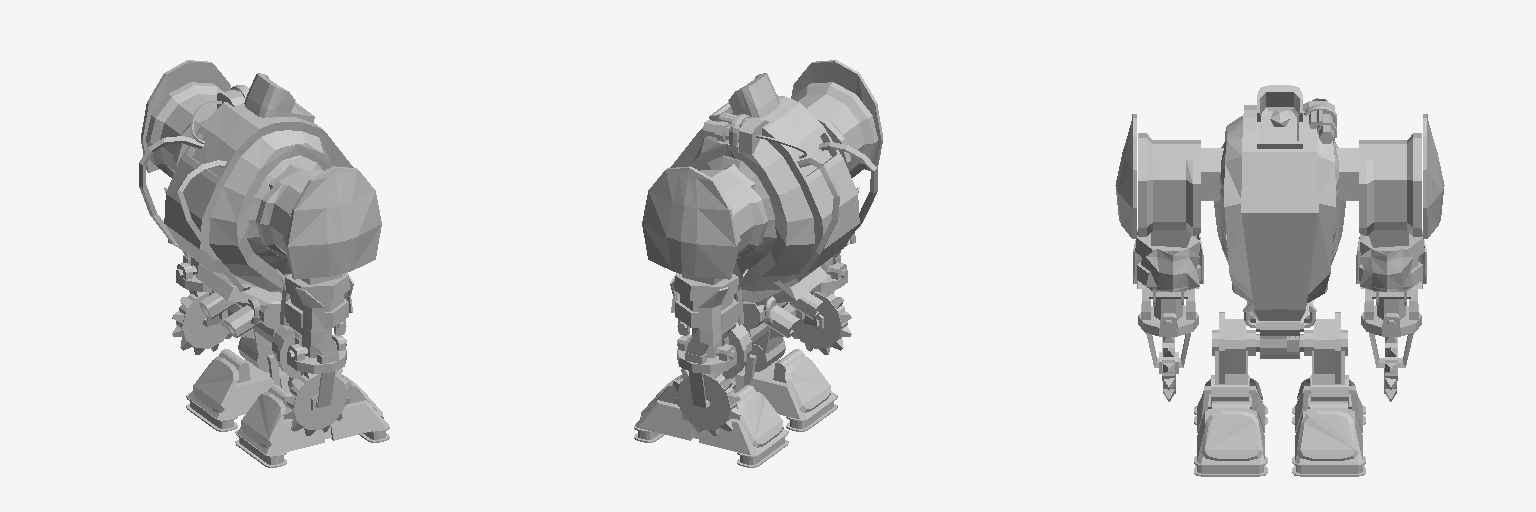
Rendered from robot.obj.
3 views of the same model, side by side, from view 1: azimuth 30°, elevation 25°; view 2: azimuth 150°, elevation 25°; view 3: azimuth 270°, elevation 25° (orthographic).
Parts seen in each view (by area): view 1: Cylinder.029, Cylinder.006, Cylinder.026, Cylinder.007, Cube, Cube.006, Cylinder.012, Cube.004, Cylinder.027, Cylinder.009, Cube.001, Cube.011 (+12 smaller); view 2: Cylinder.029, Cylinder.006, Cylinder.007, Cylinder.026, Cube, Cube.006, Cylinder.012, Cube.004, Cylinder.027, Cylinder.009, Cube.001, Cube.011 (+13 smaller); view 3: Cylinder.006, Cylinder.007, Cylinder.026, Cube.006, Cube.012, Cylinder.029, Cube, Cylinder.003, Cube.004, Cylinder.019, Cylinder.009, Cube.001 (+16 smaller).
Part boxes in pixels (x1,y1,x2,y2): Cylinder.029: (141,60,381,279); Cylinder.006: (164,102,353,303); Cylinder.026: (209,130,332,292); Cylinder.007: (145,82,323,278); Cube: (187,349,388,455); Cube.006: (193,357,383,447); Cylinder.012: (176,292,346,429); Cube.004: (244,73,314,122); Cylinder.027: (247,155,321,274); Cylinder.009: (176,262,346,373); Cube.001: (186,393,389,467); Cube.011: (164,187,325,346); Cylinder.029: (642,60,882,279); Cylinder.006: (670,95,859,303); Cylinder.007: (700,82,878,278); Cylinder.026: (691,136,814,292); Cube: (635,349,836,455); Cube.006: (640,357,830,447); Cylinder.012: (677,292,847,429); Cube.004: (709,73,779,120); Cylinder.027: (702,155,776,274); Cylinder.009: (677,262,847,373); Cube.001: (634,393,837,467); Cube.011: (698,187,859,346); Cylinder.006: (1241,105,1318,320); Cylinder.007: (1138,133,1421,236); Cylinder.026: (1224,116,1335,302); Cube.006: (1201,378,1358,460); Cube.012: (1146,248,1413,291); Cylinder.029: (1115,114,1444,238); Cube: (1197,376,1362,464); Cylinder.003: (1219,312,1340,383); Cube.004: (1257,85,1302,148); Cylinder.019: (1201,148,1358,200); Cylinder.009: (1138,305,1421,336); Cube.001: (1194,405,1365,476).
Bounding box in the file's own units: 9.62 × 17.06 × 14.57.